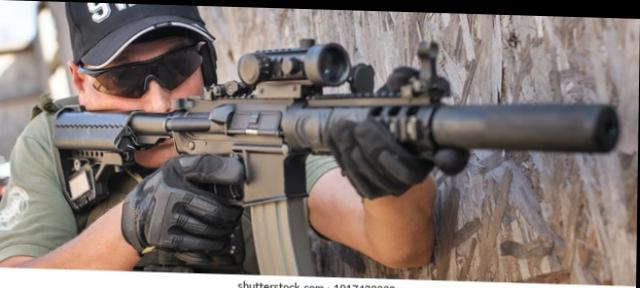other: (13, 0, 358, 264)
